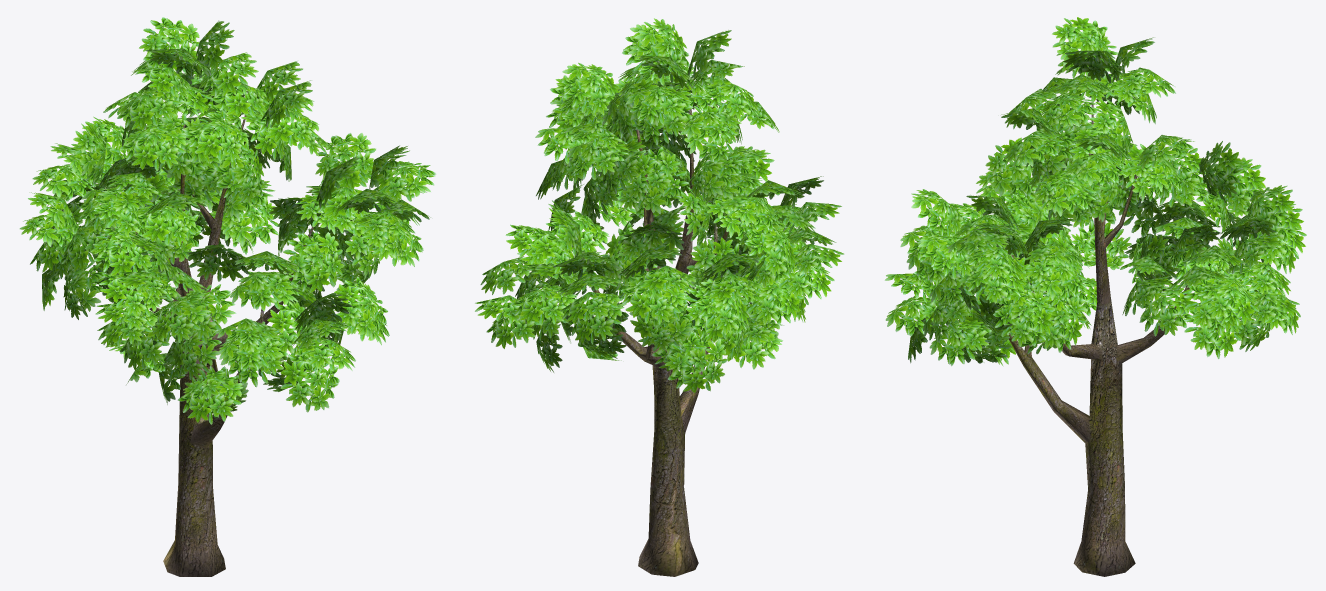
Rendered from tree.fbx.
The picture shows the model from 3 angles, left to right: view 1: azimuth 30°, elevation 25°; view 2: azimuth 150°, elevation 25°; view 3: azimuth 270°, elevation 25°; orthographic projection. The views are drawn at different scales.
Visible parts, largest first — view 1: leaves2, trunk2; view 2: leaves2, trunk2; view 3: leaves2, trunk2.
Boxes of the visible parts, x1,y1,x2,y2 form: leaves2: (19,17,435,424); trunk2: (114,115,313,576); leaves2: (475,18,844,392); trunk2: (593,109,728,576); leaves2: (884,17,1306,366); trunk2: (990,102,1190,576).
Bounding box in the file's own units: 5.36 × 8.7 × 6.45.
